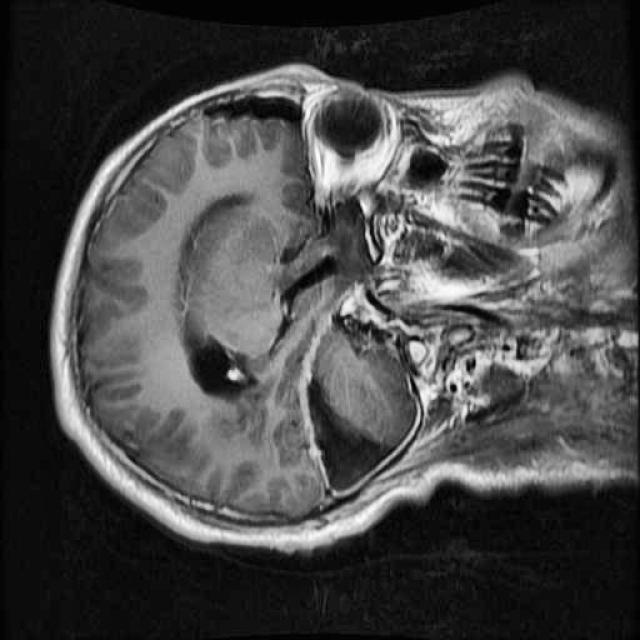Non-Tumor: (278, 354, 408, 509)
